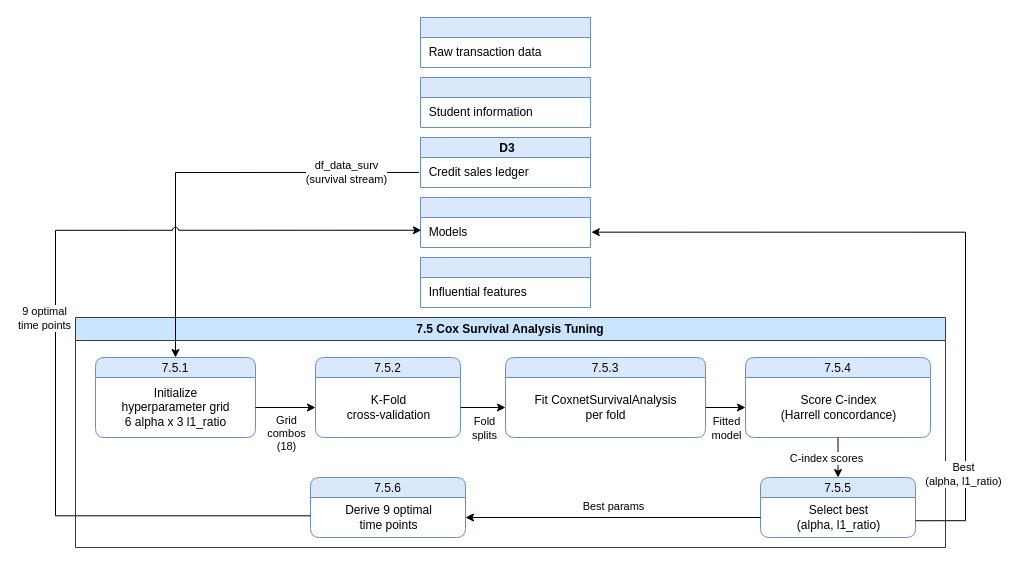
Image size: 1019x565. Some labels were removed from this diagram. The shapes that lost their labels are listed below. From the top down, each one's box as (x1, y1, x2, y2) in pixels, then its label:
(420, 16, 590, 68): D1
(420, 76, 590, 128): D2
(420, 196, 590, 248): D4
(420, 256, 590, 308): D5
